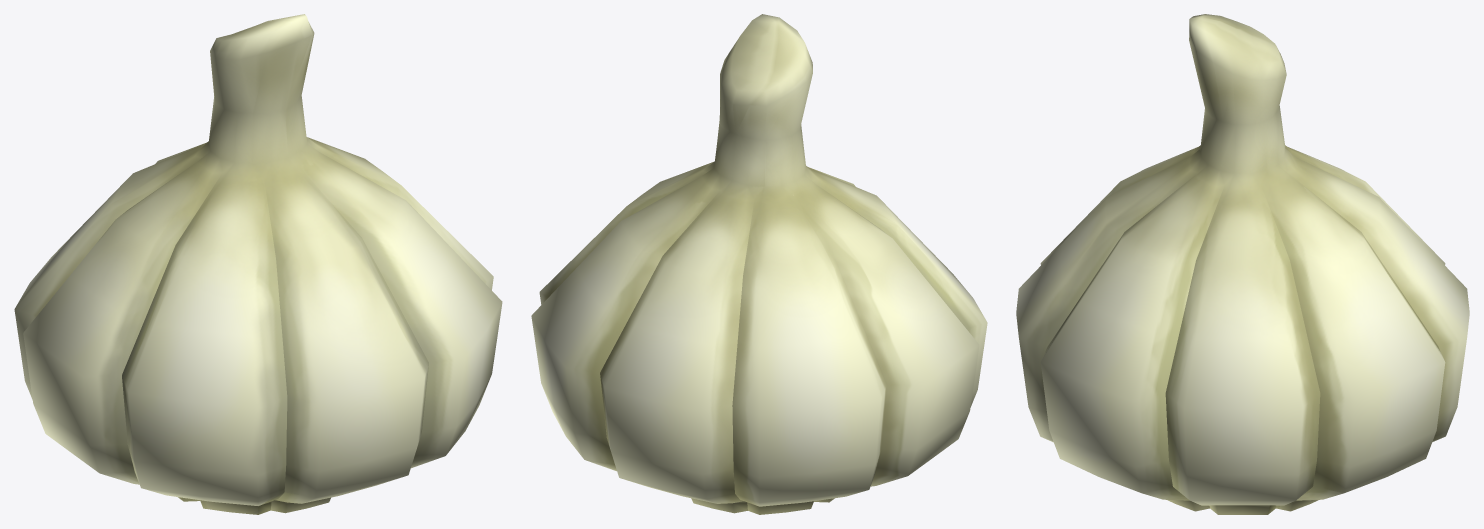
Rendered from Garlic Ball.fbx.
The picture shows the model from 3 angles, left to right: view 1: azimuth 30°, elevation 25°; view 2: azimuth 150°, elevation 25°; view 3: azimuth 270°, elevation 25°; orthographic projection. The views are drawn at different scales.
Visible parts, largest first — view 1: Cube.001; view 2: Cube.001; view 3: Cube.001.
Boxes of the visible parts, <box> form: Cube.001: <box>14,14,502,514</box>; Cube.001: <box>531,14,987,514</box>; Cube.001: <box>1016,14,1469,514</box>.
Bounding box in the file's own units: 194 × 211 × 189.
Materials: 1 (1 with a texture image).
